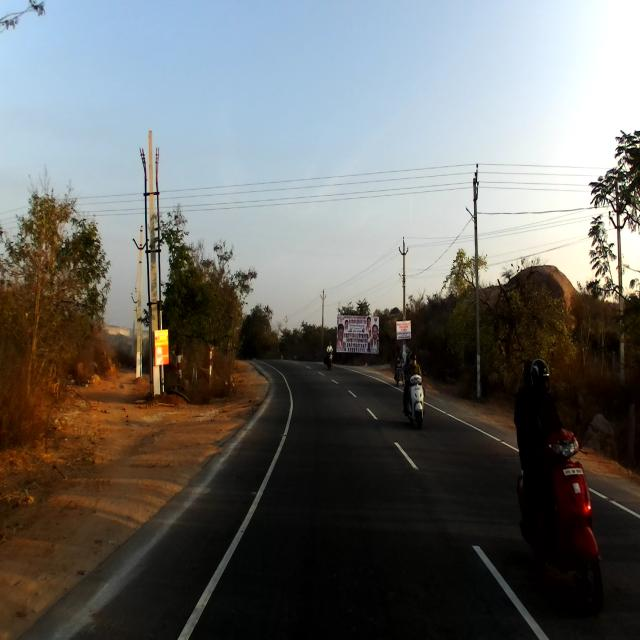electric pole ahead at: (134, 131, 174, 407)
motorcycle ahead at: (507, 421, 610, 614)
